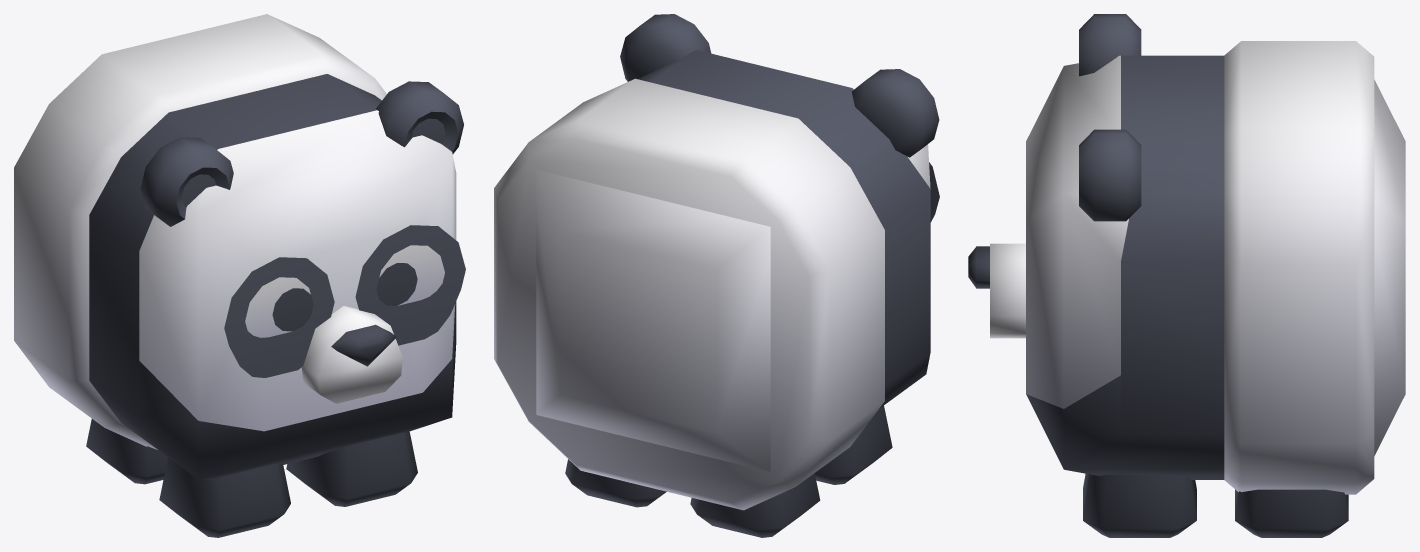
Rendered from animal-panda.glb.
3 renders of one model, left to right at view 1: azimuth 30°, elevation 25°; view 2: azimuth 150°, elevation 25°; view 3: azimuth 270°, elevation 25°, orthographic. The views are drawn at different scales.
Visible parts, largest first — view 1: animal-panda; view 2: animal-panda; view 3: animal-panda.
Part boxes in pixels (bbox=[...]): animal-panda: bbox=[14, 14, 465, 537]; animal-panda: bbox=[494, 14, 939, 537]; animal-panda: bbox=[968, 14, 1405, 537].
Bounding box in the file's own units: 1.34 × 1.5 × 1.44.
Materials: 1 (1 with a texture image).
